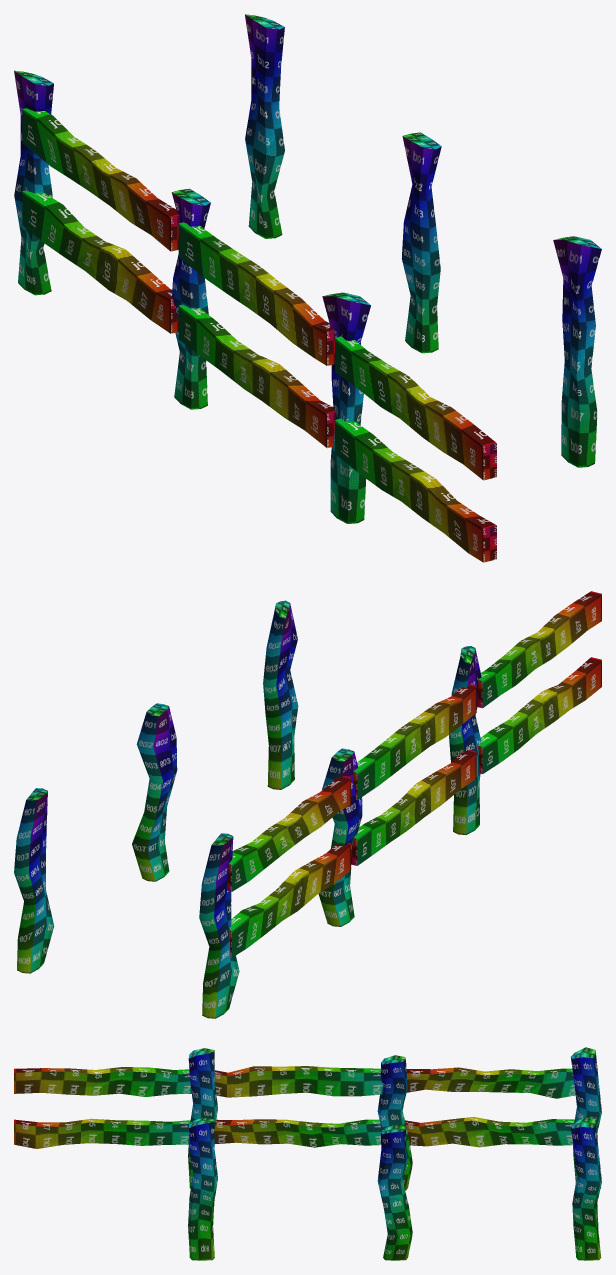
Rendered from Fences.FBX.
3 renders of one model, top to bottom at view 1: azimuth 30°, elevation 25°; view 2: azimuth 150°, elevation 25°; view 3: azimuth 270°, elevation 25°, orthographic. The views are drawn at different scales.
Parts seen in each view (by area): view 1: FenceType3_, FenceType1_, FenceType2_, FencePostType3_, FencePostType1_, FencePostType2_; view 2: FenceType1_, FenceType3_, FenceType2_, FencePostType1_, FencePostType2_, FencePostType3_; view 3: FenceType3_, FenceType2_, FenceType1_, FencePostType3_, FencePostType1_, FencePostType2_.
Part boxes in pixels (left/top/right/bottom): FenceType3_: left=322, top=292, right=496, bottom=562; FenceType1_: left=14, top=70, right=179, bottom=333; FenceType2_: left=171, top=188, right=335, bottom=448; FencePostType3_: left=553, top=236, right=601, bottom=467; FencePostType1_: left=245, top=14, right=284, bottom=238; FencePostType2_: left=401, top=132, right=441, bottom=353; FenceType1_: left=199, top=776, right=350, bottom=1018; FenceType3_: left=449, top=591, right=601, bottom=834; FenceType2_: left=318, top=684, right=476, bottom=926; FencePostType1_: left=14, top=788, right=54, bottom=973; FencePostType2_: left=132, top=703, right=177, bottom=881; FencePostType3_: left=263, top=600, right=298, bottom=789; FenceType3_: left=14, top=1048, right=217, bottom=1188; FenceType2_: left=214, top=1055, right=412, bottom=1190; FenceType1_: left=405, top=1047, right=601, bottom=1188; FencePostType3_: left=188, top=1117, right=217, bottom=1260; FencePostType1_: left=570, top=1117, right=601, bottom=1260; FencePostType2_: left=377, top=1125, right=412, bottom=1260.
Size of the model in its own units: 9.87 by 7.83 by 30.44.
